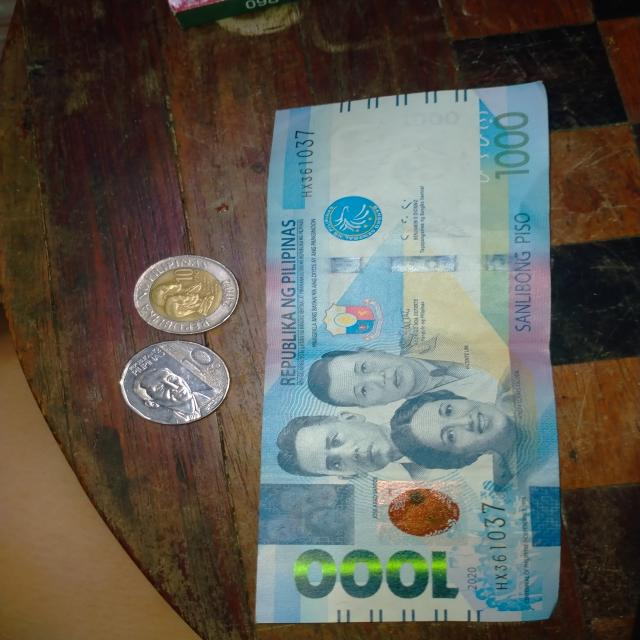concealed_value: (254, 479, 363, 548)
optically_variable_device: (368, 479, 468, 546)
see_through_mark: (457, 106, 500, 197)
value_watermark: (395, 108, 464, 131)
